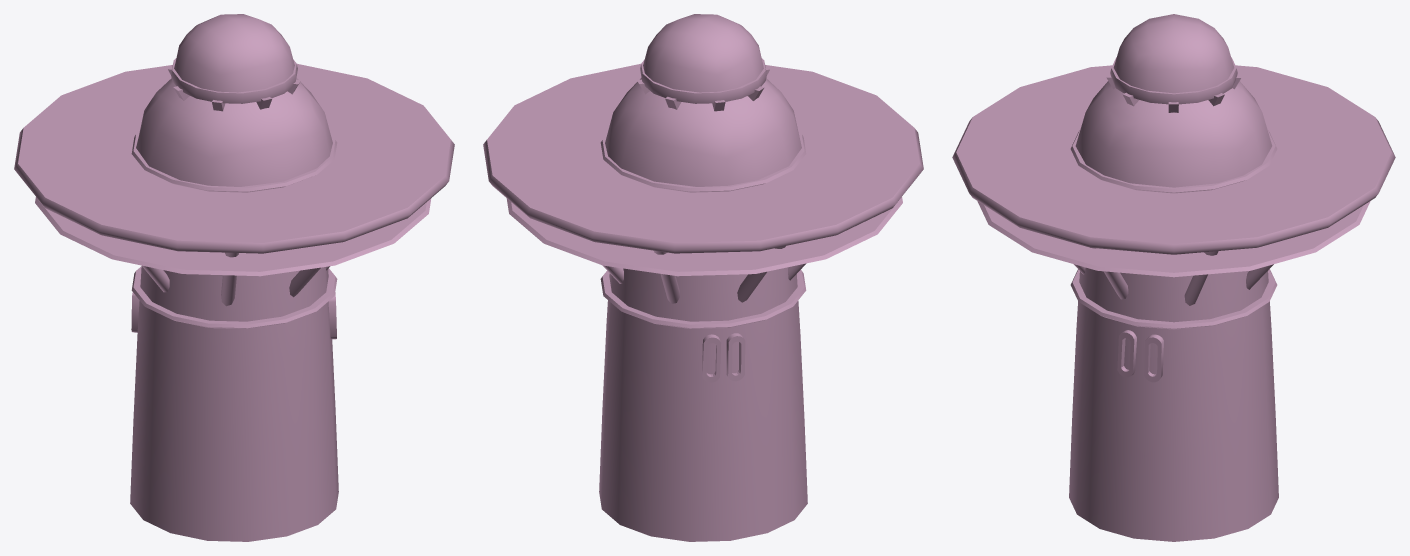
Rendered from MESH_Tower02.fbx.
The picture shows the model from 3 angles, left to right: view 1: azimuth 30°, elevation 25°; view 2: azimuth 150°, elevation 25°; view 3: azimuth 270°, elevation 25°; orthographic projection.
Parts seen in each view (by area): view 1: MESH_Tower02; view 2: MESH_Tower02; view 3: MESH_Tower02.
Part boxes in pixels (left/top/right/bottom): MESH_Tower02: left=14, top=14, right=454, bottom=541; MESH_Tower02: left=483, top=14, right=923, bottom=541; MESH_Tower02: left=952, top=14, right=1395, bottom=541.
Bounding box in the file's own units: 10.27 × 10.27 × 12.19.
